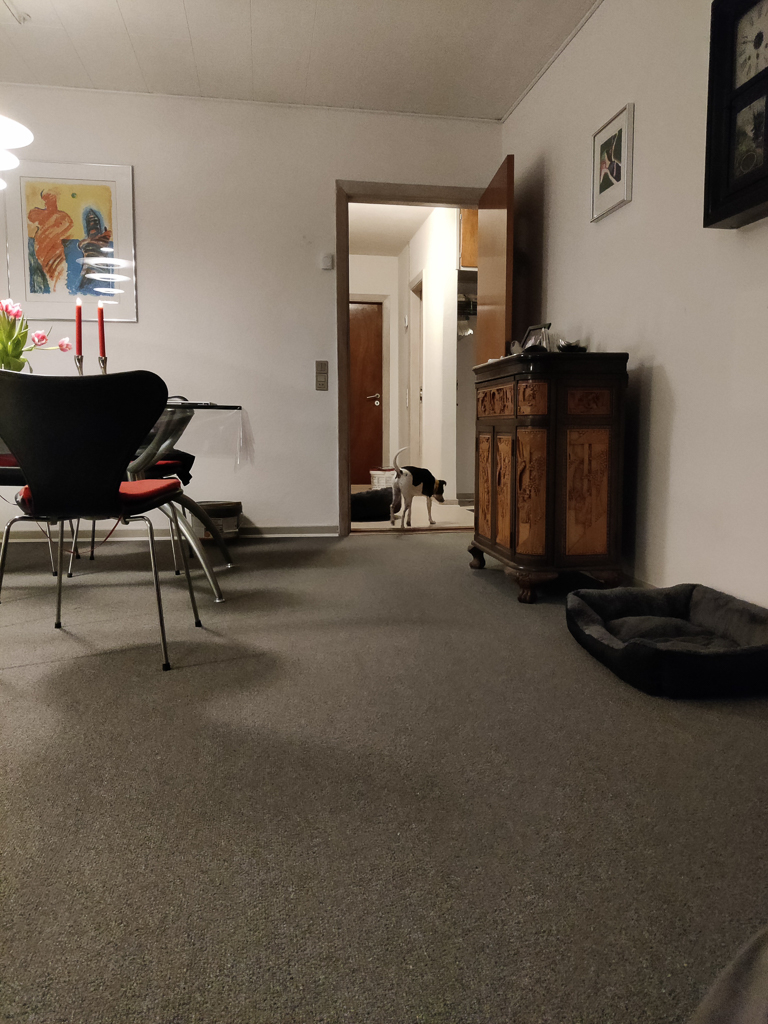Dog: (385, 443, 451, 531)
